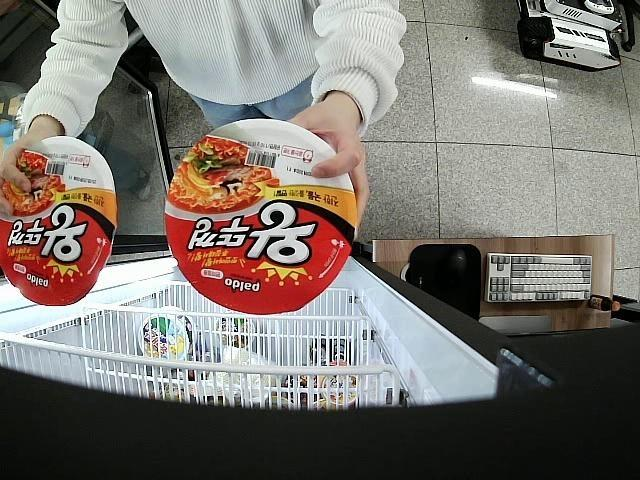10_wangTtukkeong: (163, 118, 354, 313), (0, 136, 117, 306)
